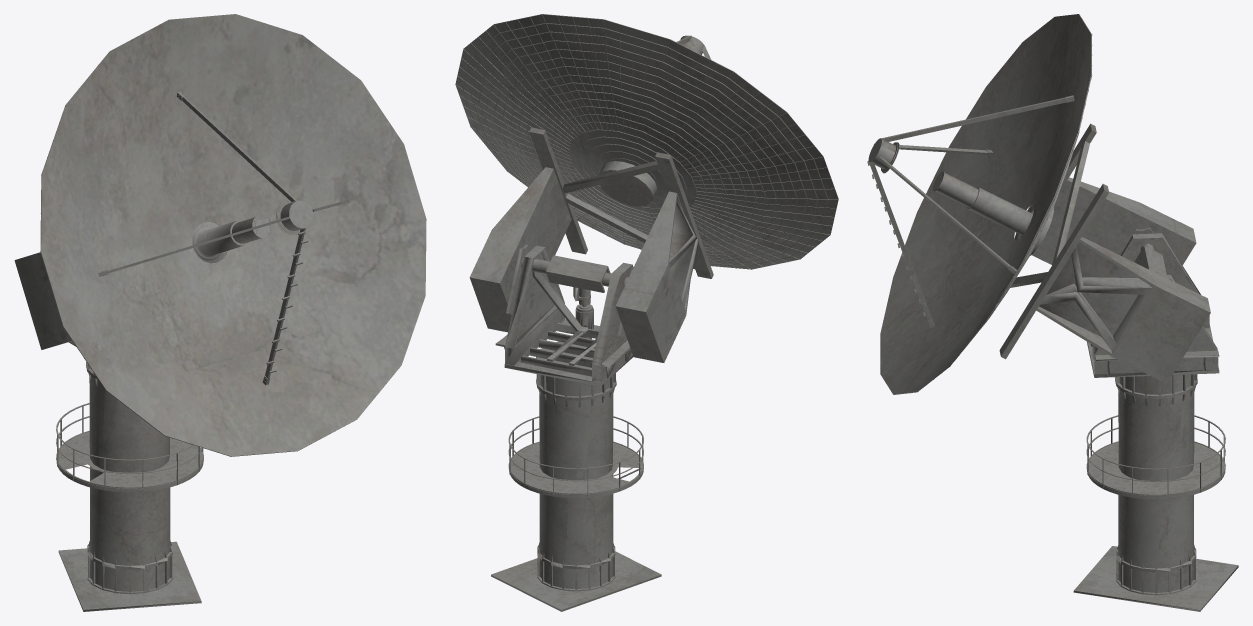
3 renders of one model, left to right at view 1: azimuth 30°, elevation 25°; view 2: azimuth 150°, elevation 25°; view 3: azimuth 270°, elevation 25°, orthographic. The views are drawn at different scales.
Parts seen in each view (by area): view 1: Obj_ld_09, ld_01, Obj_ld_01, Obj_ld_02, Obj_ld_06, Obj_ld_08; view 2: Obj_ld_09, Obj_ld_01, Obj_ld_03, ld_01, Obj_ld_04, Obj_ld_02, Obj_ld_05, Obj_ld_06, Obj_ld_08; view 3: Obj_ld_09, Obj_ld_01, ld_01, Obj_ld_02, Obj_ld_06, Obj_ld_08, Obj_ld_05, Obj_ld_03.
Boxes of the visible parts, <box> form: Obj_ld_09: <box>14,14,426,456</box>; ld_01: <box>58,466,201,611</box>; Obj_ld_01: <box>69,341,169,473</box>; Obj_ld_02: <box>58,431,202,486</box>; Obj_ld_06: <box>56,403,203,491</box>; Obj_ld_08: <box>56,430,203,492</box>; Obj_ld_09: <box>455,14,838,362</box>; Obj_ld_01: <box>495,245,633,481</box>; Obj_ld_03: <box>463,23,828,266</box>; ld_01: <box>491,474,661,611</box>; Obj_ld_04: <box>455,14,838,269</box>; Obj_ld_02: <box>511,442,642,493</box>; Obj_ld_05: <box>521,255,628,292</box>; Obj_ld_06: <box>508,416,643,497</box>; Obj_ld_08: <box>509,441,643,498</box>; Obj_ld_09: <box>867,14,1210,394</box>; Obj_ld_01: <box>1087,233,1219,480</box>; ld_01: <box>1073,495,1238,611</box>; Obj_ld_02: <box>1089,442,1224,494</box>; Obj_ld_06: <box>1086,415,1225,498</box>; Obj_ld_08: <box>1087,441,1225,499</box>; Obj_ld_05: <box>1135,243,1166,275</box>; Obj_ld_03: <box>954,83,1090,361</box>.
Size of the model in its own units: 1.36 by 1.96 by 1.2.
1 material, 1 textured.
